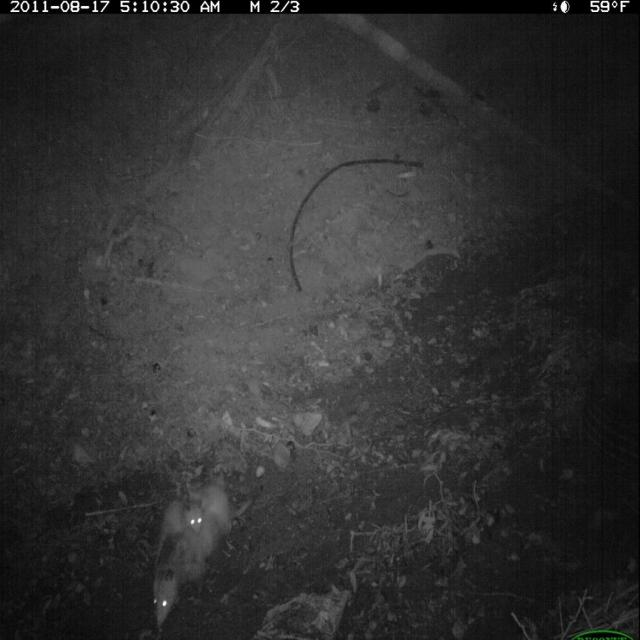opossum: (144, 473, 259, 634)
